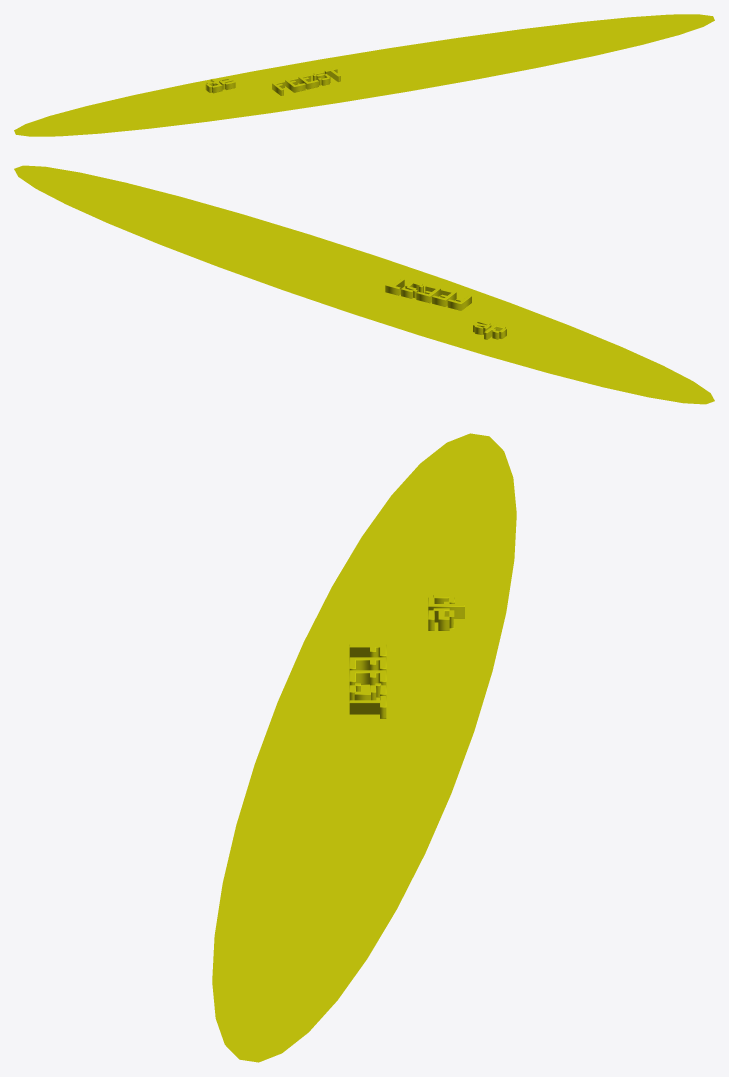
File: deFEEST-joined.dae
3 renders of one model, top to bottom at view 1: azimuth 30°, elevation 25°; view 2: azimuth 150°, elevation 25°; view 3: azimuth 270°, elevation 25°, orthographic. The views are drawn at different scales.
Visible parts, largest first — view 1: Yellow_cil, FEEST, de; view 2: Yellow_cil, FEEST, de; view 3: Yellow_cil, FEEST, de.
Part boxes in pixels (x1,y1,x2,y2): Yellow_cil: [14, 14, 714, 136]; FEEST: [272, 68, 340, 95]; de: [205, 78, 235, 93]; Yellow_cil: [14, 165, 714, 404]; FEEST: [385, 279, 471, 310]; de: [473, 320, 506, 339]; Yellow_cil: [212, 433, 516, 1062]; FEEST: [349, 644, 386, 718]; de: [428, 595, 464, 630].
Size of the model in its own units: 24.49 by 5.01 by 0.3435.
